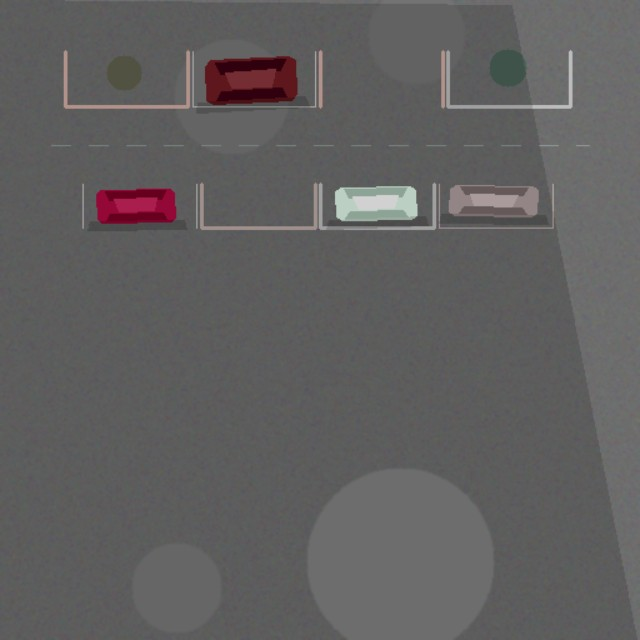space-empty: (65, 51, 188, 106), (320, 51, 442, 106), (448, 51, 570, 106), (201, 184, 315, 227)
space-occupied: (192, 51, 315, 106), (82, 184, 196, 227), (320, 184, 434, 227), (439, 184, 552, 227)
